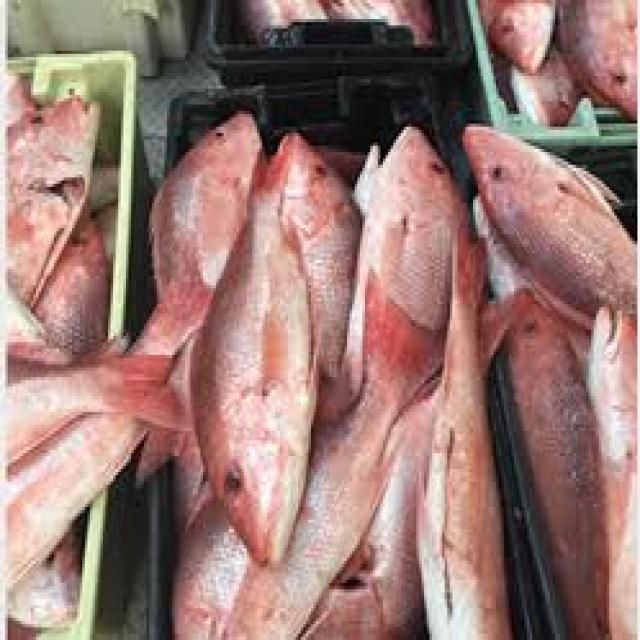northern-red-snapper: (188, 282, 440, 640), (193, 128, 327, 592), (0, 348, 177, 624), (413, 215, 512, 637), (465, 100, 640, 312), (132, 86, 260, 366), (340, 126, 461, 410), (473, 0, 640, 123), (0, 86, 90, 304)
